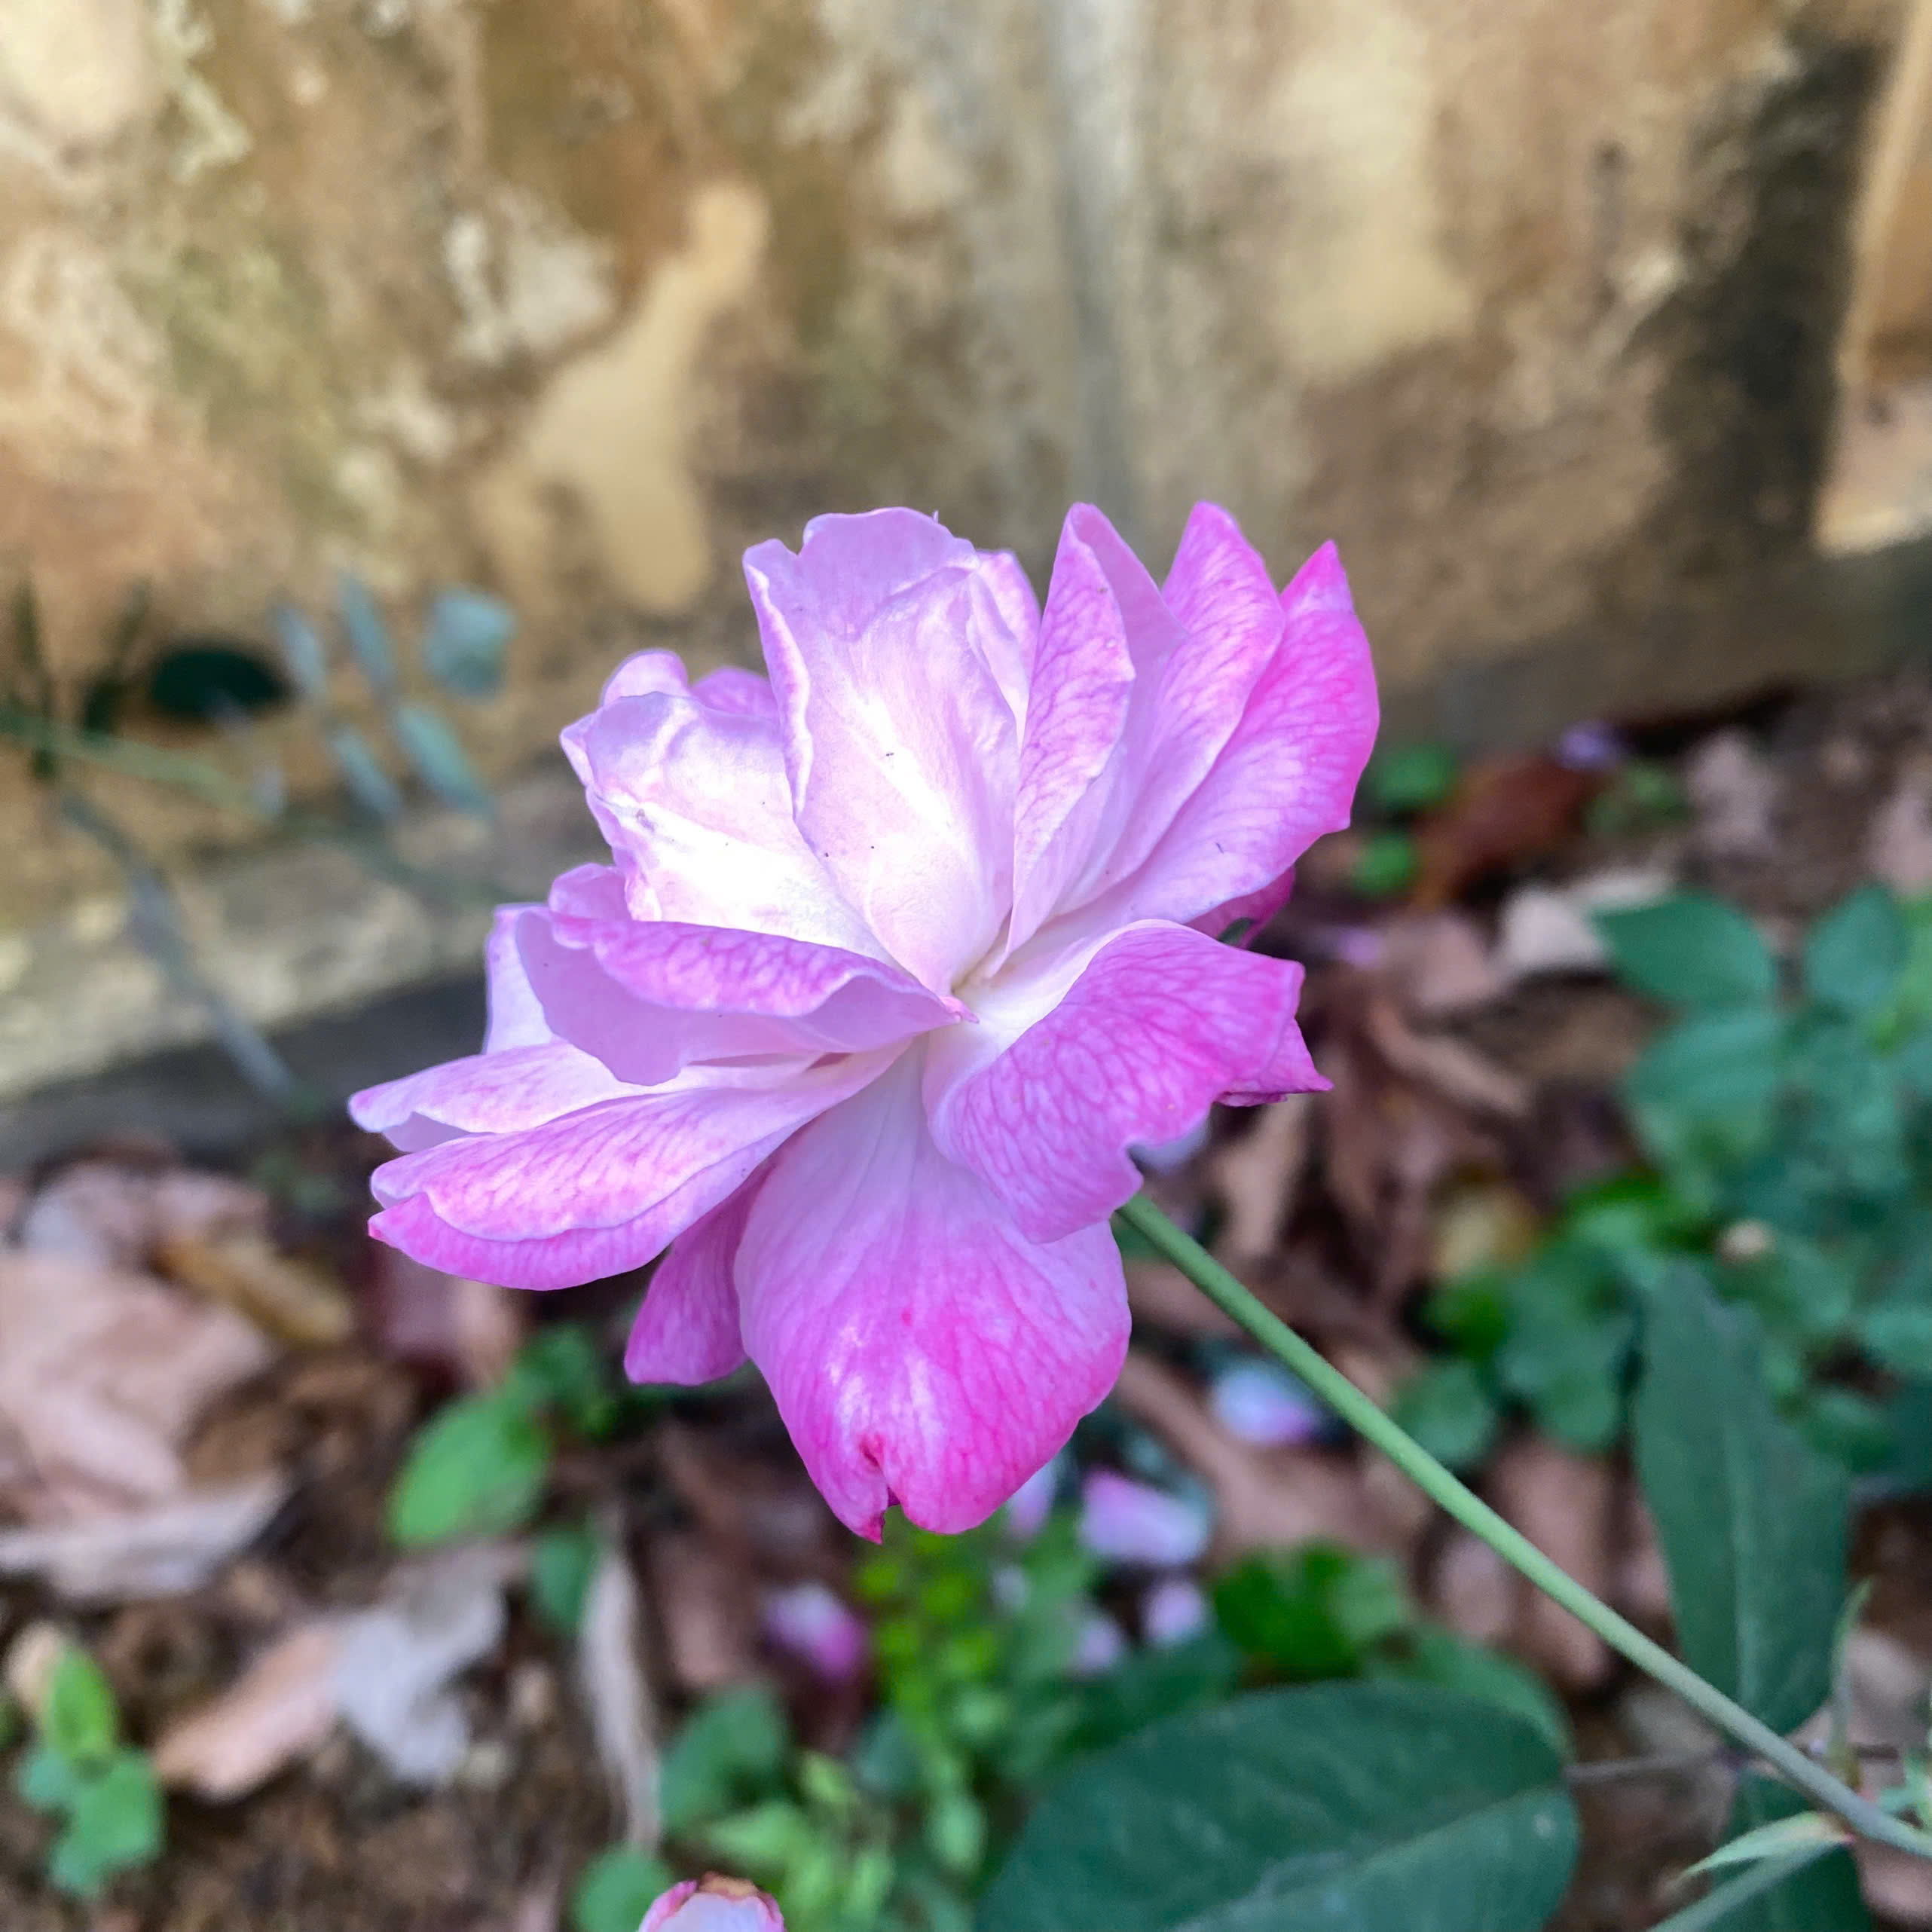hoa_hong_phan: (333, 474, 1431, 1541)
